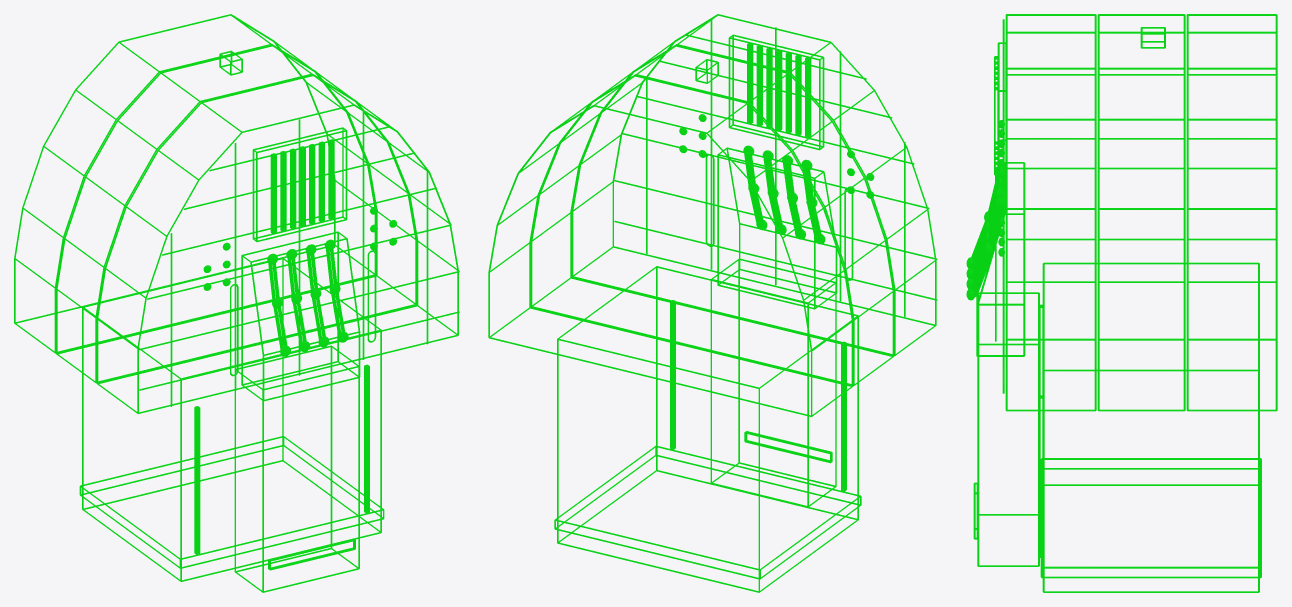
File: improved-sensors-wireframe.glb
The picture shows the model from 3 angles, left to right: view 1: azimuth 30°, elevation 25°; view 2: azimuth 150°, elevation 25°; view 3: azimuth 270°, elevation 25°; orthographic projection. The views are drawn at different scales.
Parts seen in each view (by area): view 1: chassis technical wire, data-collector technical wire, calibration-indicators technical wire, shielding-coils technical wire; view 2: chassis technical wire, data-collector technical wire, calibration-indicators technical wire, shielding-coils technical wire; view 3: chassis technical wire, data-collector technical wire, calibration-indicators technical wire.
Part boxes in pixels (x1,y1,x2,y2): chassis technical wire: (14, 14, 459, 581); data-collector technical wire: (234, 231, 360, 592); calibration-indicators technical wire: (203, 127, 396, 290); shielding-coils technical wire: (230, 250, 376, 376); chassis technical wire: (488, 14, 937, 592); data-collector technical wire: (710, 145, 837, 506); calibration-indicators technical wire: (679, 34, 874, 198); shielding-coils technical wire: (705, 154, 853, 280); chassis technical wire: (1002, 14, 1277, 592); data-collector technical wire: (966, 162, 1039, 566); calibration-indicators technical wire: (994, 42, 1005, 256).
Bounding box in the file's own units: 2.08 × 2.88 × 1.59.
